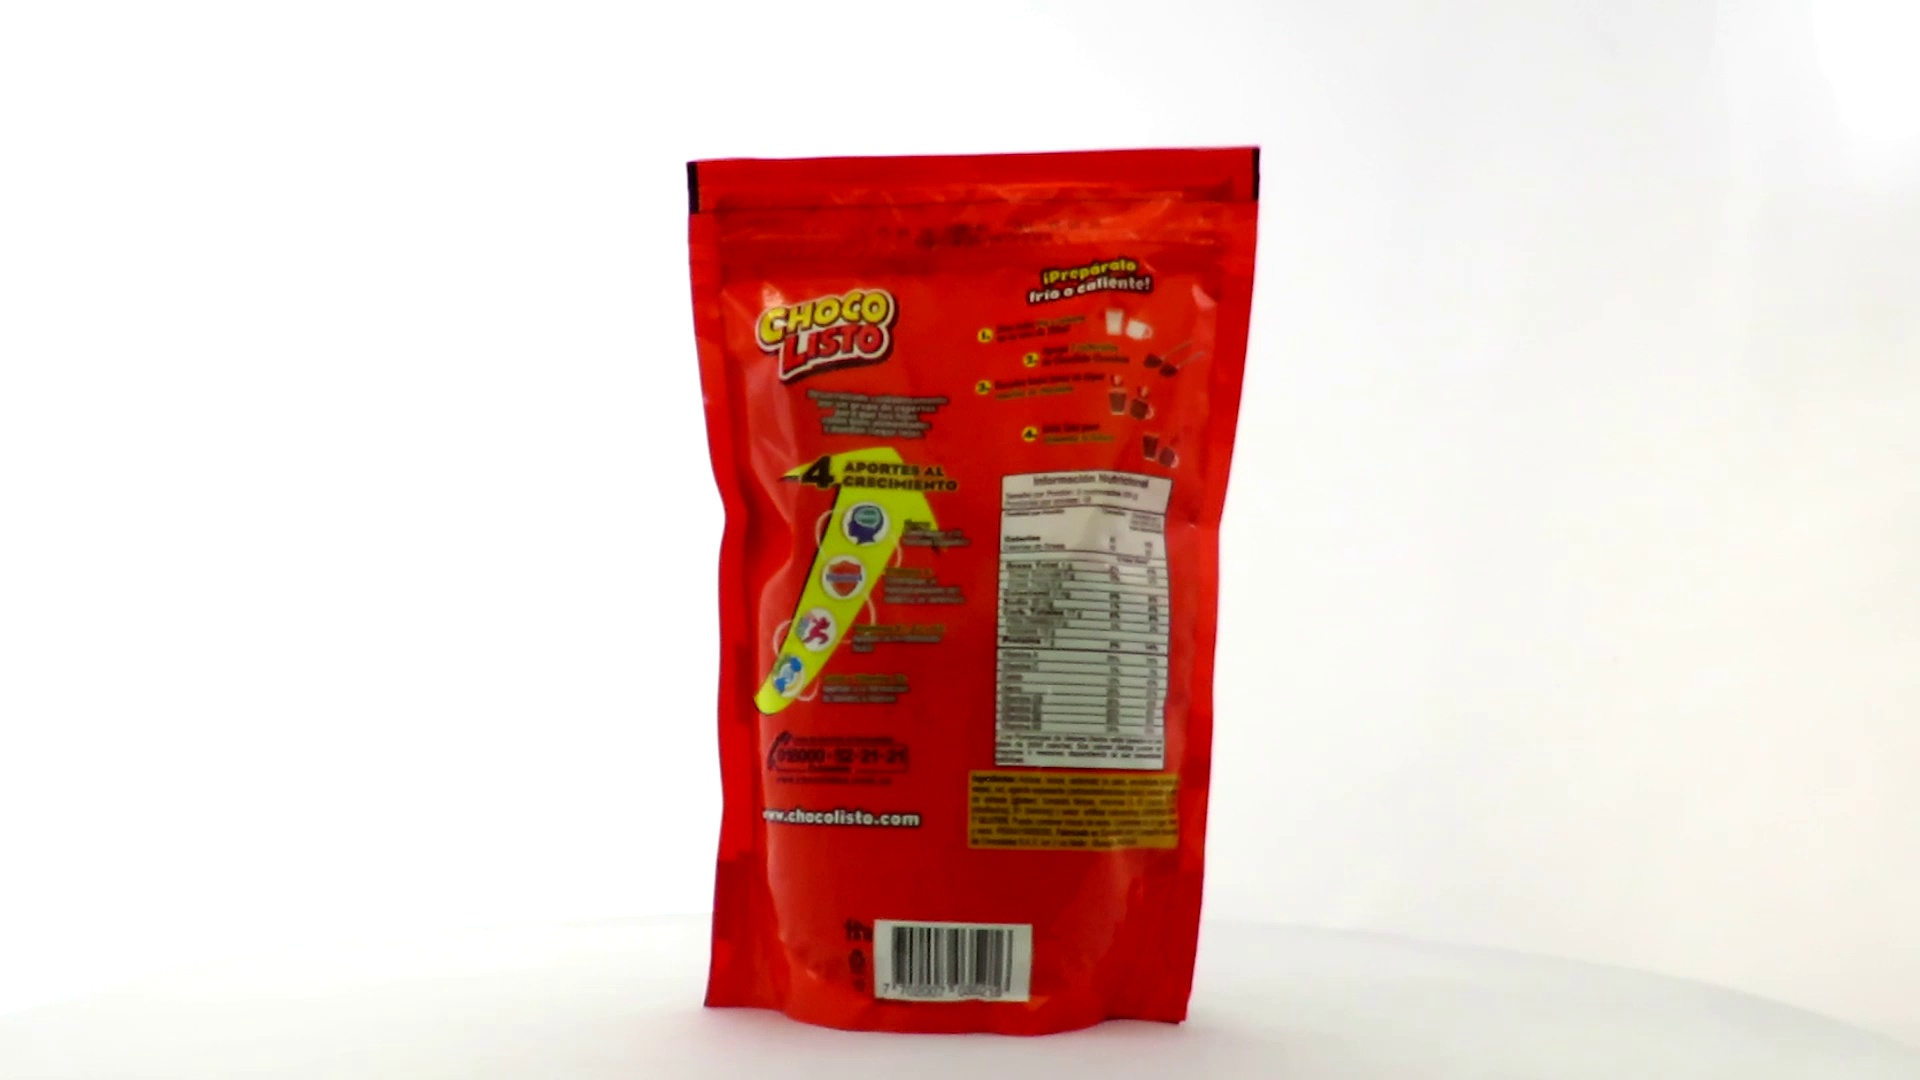COL0170103DYP36000: (680, 141, 1266, 1043)
